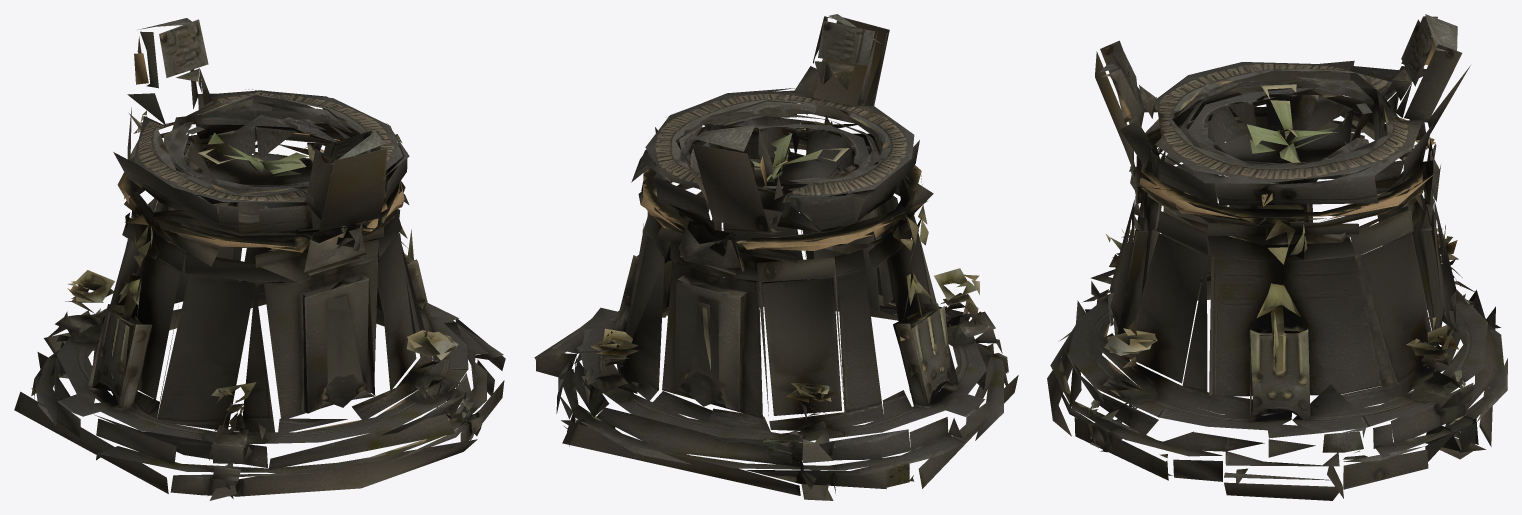
Rendered from ch8_harmonic_key_altar_LOD3.glb.
3 views of the same model, side by side, from view 1: azimuth 30°, elevation 25°; view 2: azimuth 150°, elevation 25°; view 3: azimuth 270°, elevation 25° (orthographic). The views are drawn at different scales.
Visible parts, largest first — view 1: tripo_node_63062fc4-c9be-4fcc-b88b-4483c87d165c; view 2: tripo_node_63062fc4-c9be-4fcc-b88b-4483c87d165c; view 3: tripo_node_63062fc4-c9be-4fcc-b88b-4483c87d165c.
Boxes of the visible parts, <box> form: tripo_node_63062fc4-c9be-4fcc-b88b-4483c87d165c: <box>14,18,505,500</box>; tripo_node_63062fc4-c9be-4fcc-b88b-4483c87d165c: <box>534,14,1018,500</box>; tripo_node_63062fc4-c9be-4fcc-b88b-4483c87d165c: <box>1047,14,1507,500</box>.
Bounding box in the file's own units: 0.9848 × 0.7733 × 0.9023.
1 material, 1 textured.
